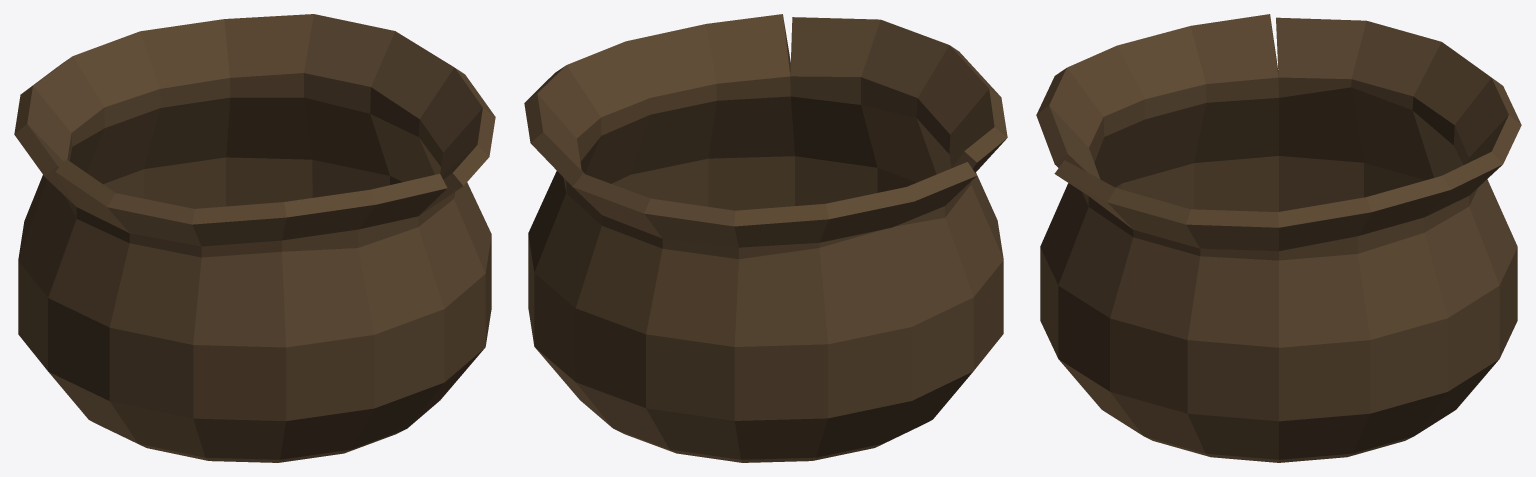
Rendered from Pot.fbx.
3 views of the same model, side by side, from view 1: azimuth 30°, elevation 25°; view 2: azimuth 150°, elevation 25°; view 3: azimuth 270°, elevation 25° (orthographic).
Parts seen in each view (by area): view 1: Pot; view 2: Pot; view 3: Pot.
Boxes of the visible parts, bbox=[...] form: Pot: bbox=[14, 14, 495, 462]; Pot: bbox=[524, 14, 1007, 462]; Pot: bbox=[1036, 14, 1521, 462].
Bounding box in the file's own units: 142 × 90.98 × 142.
